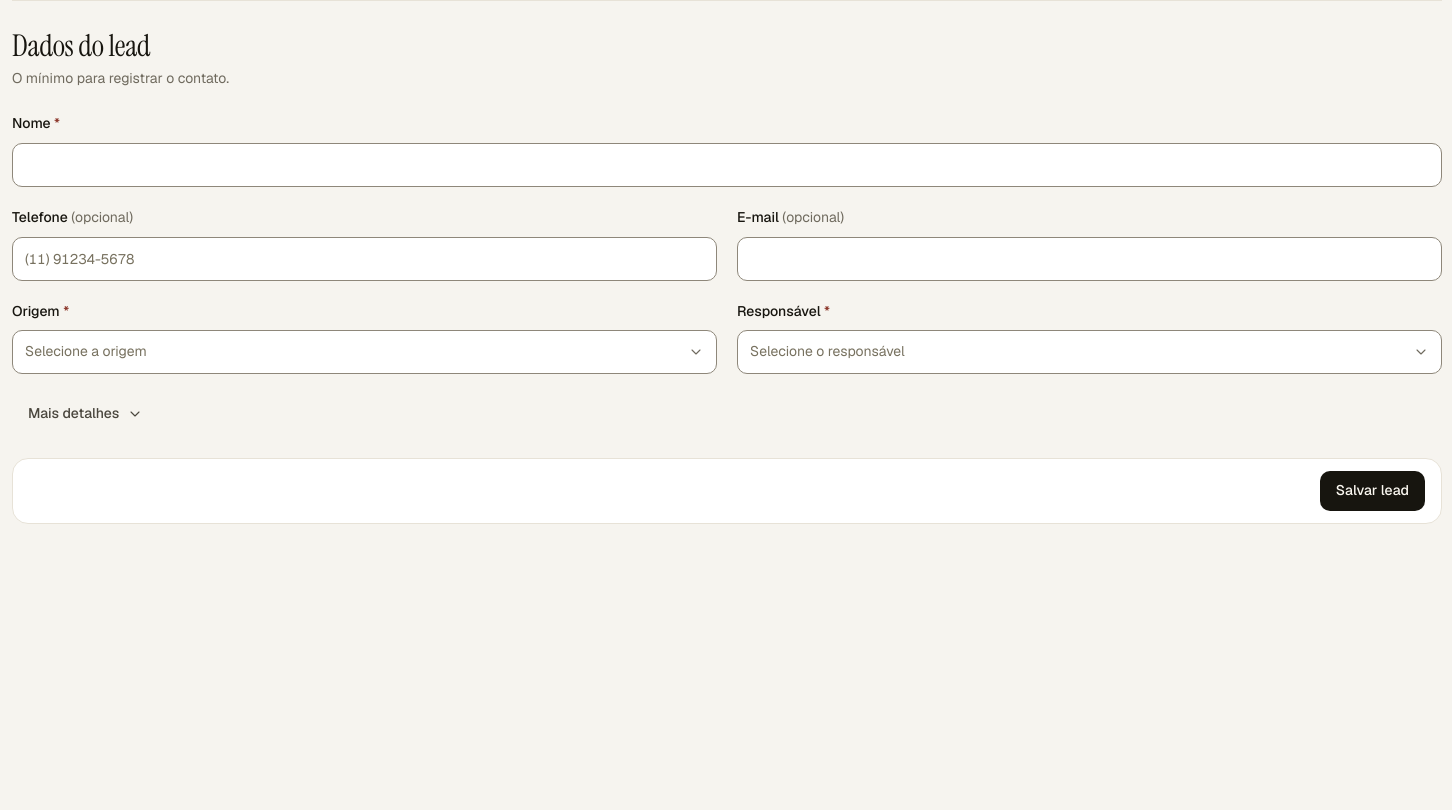
Test: LeadForm (RF-35) › submeter vazio mostra erros em pt-BR e foca o nome
Click the button "Salvar lead" at point(1372, 491), box [1320,471,1425,511]
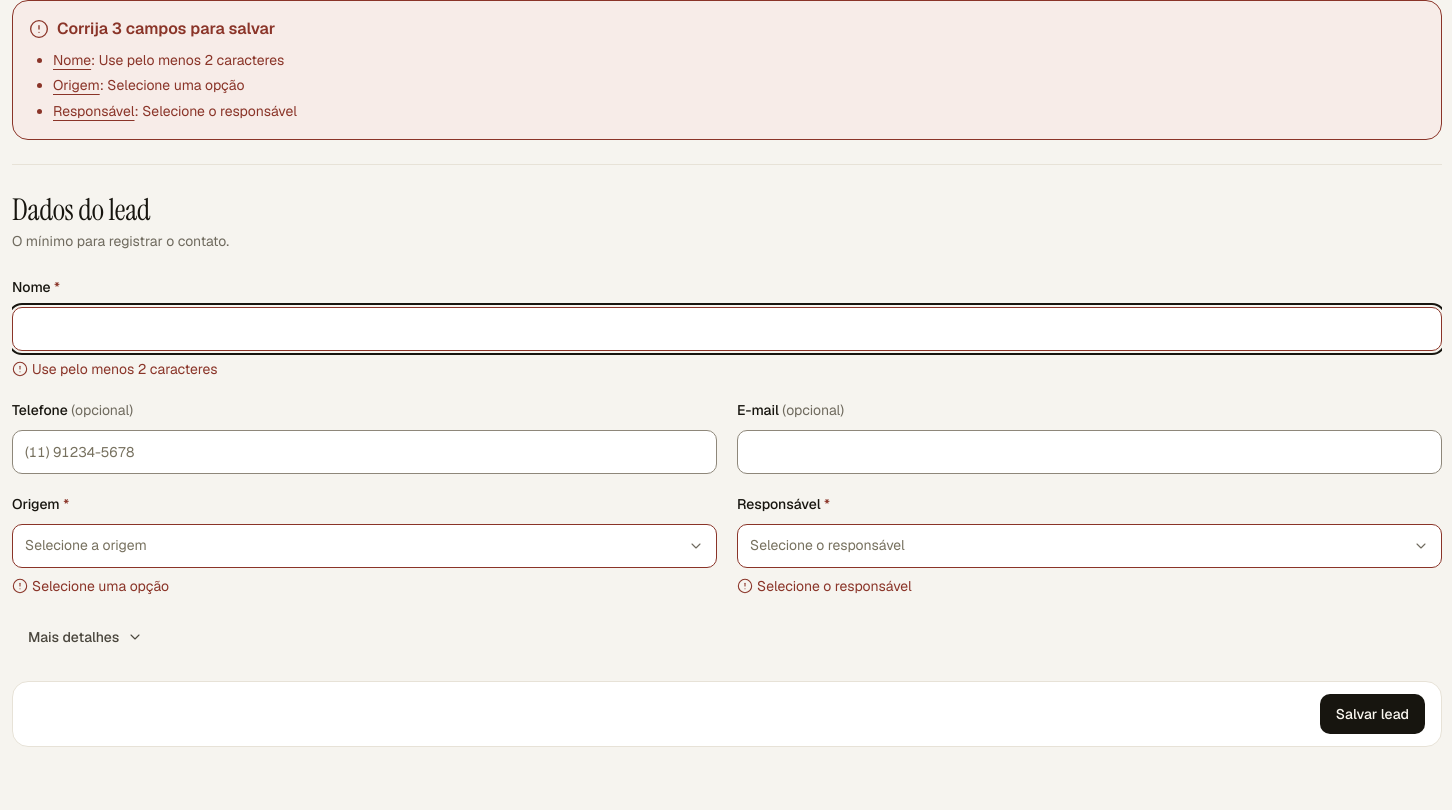
Now the element that starts with "Corrija 3 campos para salvar" is shown, box [12,0,1442,140]
